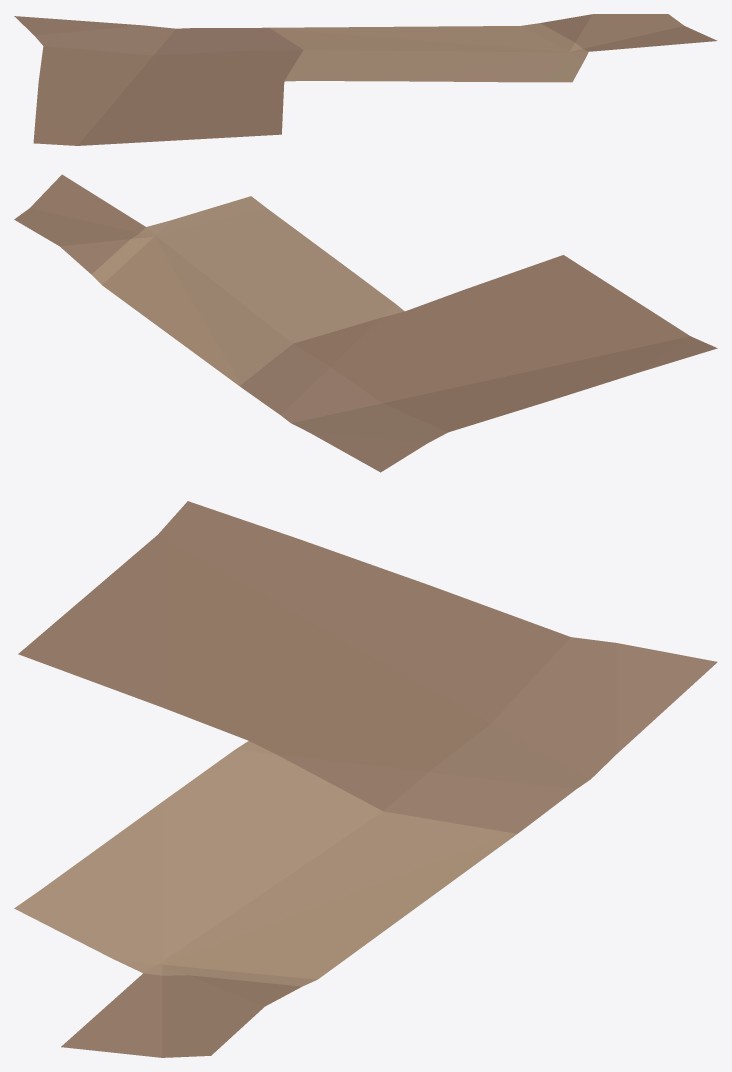
The model's file is farm_-56_-49_soil.glb.
3 views of the same model, one above another, from view 1: azimuth 30°, elevation 25°; view 2: azimuth 150°, elevation 25°; view 3: azimuth 270°, elevation 25° (orthographic). The views are drawn at different scales.
Parts seen in each view (by area): view 1: geometry_0; view 2: geometry_0; view 3: geometry_0.
Part boxes in pixels (left/top/right/bottom): geometry_0: left=14, top=14, right=717, bottom=145; geometry_0: left=14, top=174, right=717, bottom=472; geometry_0: left=14, top=501, right=717, bottom=1057.
Bounding box in the file's own units: 210 × 13.31 × 124.
